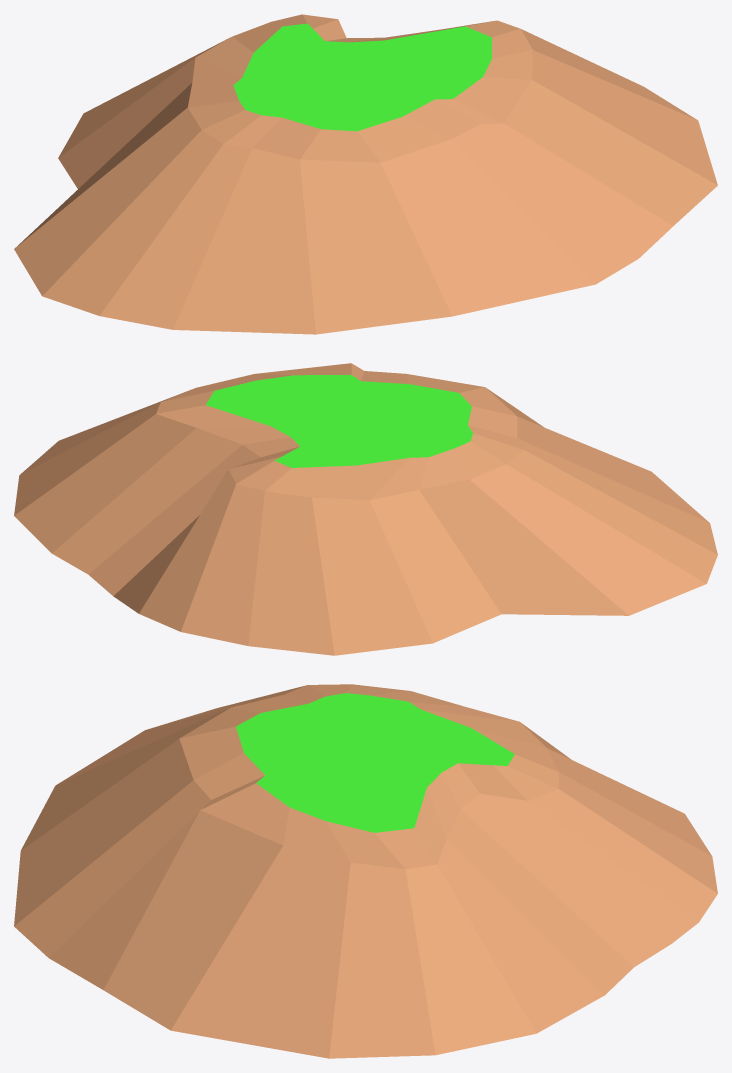
Rendered from island ground3 1.fbx.
3 renders of one model, top to bottom at view 1: azimuth 30°, elevation 25°; view 2: azimuth 150°, elevation 25°; view 3: azimuth 270°, elevation 25°, orthographic. The views are drawn at different scales.
Parts seen in each view (by area): view 1: Plane; view 2: Plane; view 3: Plane.
Boxes of the visible parts, x1,y1,x2,y2 form: Plane: [14, 14, 717, 334]; Plane: [14, 363, 717, 655]; Plane: [14, 684, 717, 1058].
Size of the model in its own units: 1872 by 302 by 1535.
